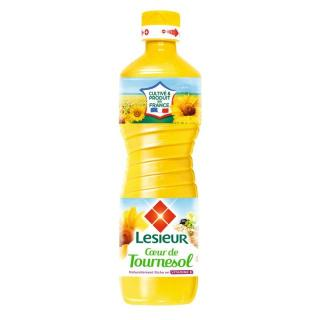Plastic-bottle: (112, 9, 206, 311)
